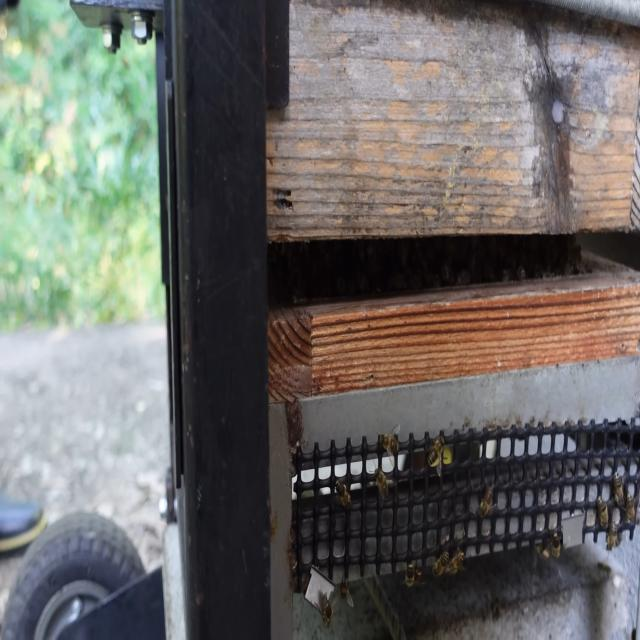Bees: (376, 422, 401, 468), (425, 430, 447, 478), (369, 458, 393, 500), (475, 477, 497, 520), (333, 478, 353, 514), (431, 544, 449, 580), (595, 492, 610, 533), (446, 546, 465, 577), (611, 468, 624, 510), (624, 491, 637, 532)
